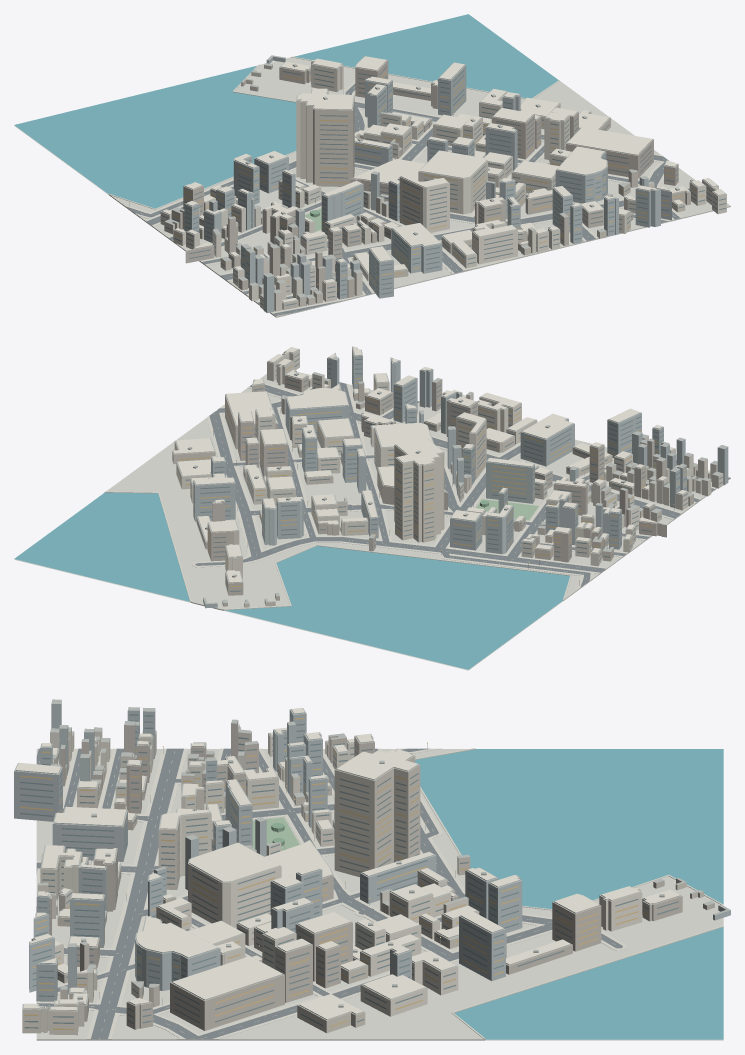
3 views of the same model, one above another, from view 1: azimuth 30°, elevation 25°; view 2: azimuth 150°, elevation 25°; view 3: azimuth 270°, elevation 25° (orthographic). The views are drawn at different scales.
Visible parts, largest first — view 1: city; view 2: city; view 3: city.
Boxes of the visible parts, x1,y1,x2,y2 form: city: [14, 14, 730, 317]; city: [14, 346, 730, 670]; city: [14, 699, 730, 1040].
Bounding box in the file's own units: 515 × 83.55 × 522.
